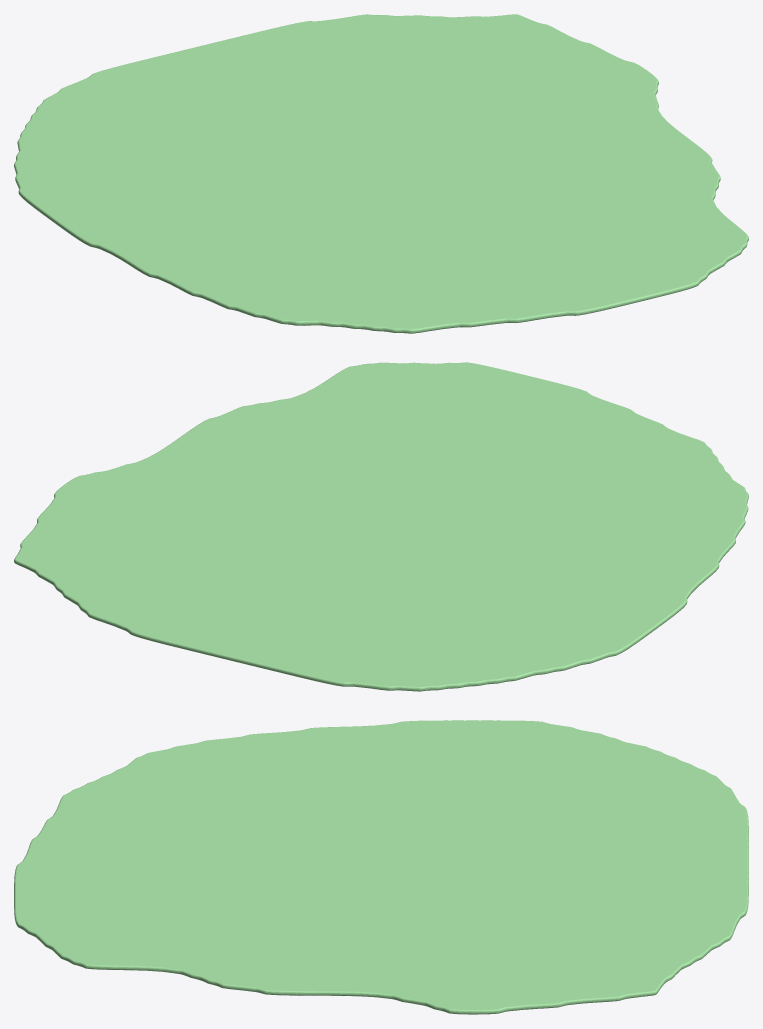
The model's file is DirtArea.fbx.
3 renders of one model, top to bottom at view 1: azimuth 30°, elevation 25°; view 2: azimuth 150°, elevation 25°; view 3: azimuth 270°, elevation 25°, orthographic.
Visible parts, largest first — view 1: Concrete; view 2: Concrete; view 3: Concrete.
Part boxes in pixels (x1=…): Concrete: x1=14, y1=14, x2=748, y2=333; Concrete: x1=14, y1=362, x2=748, y2=691; Concrete: x1=14, y1=720, x2=748, y2=1014.
Size of the model in its own units: 482 by 3.4 by 514.
